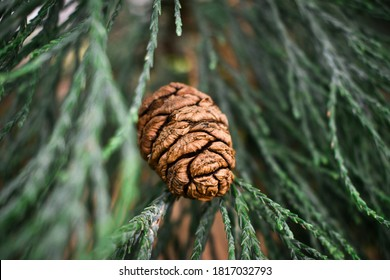Pc: (135, 82, 237, 198)
